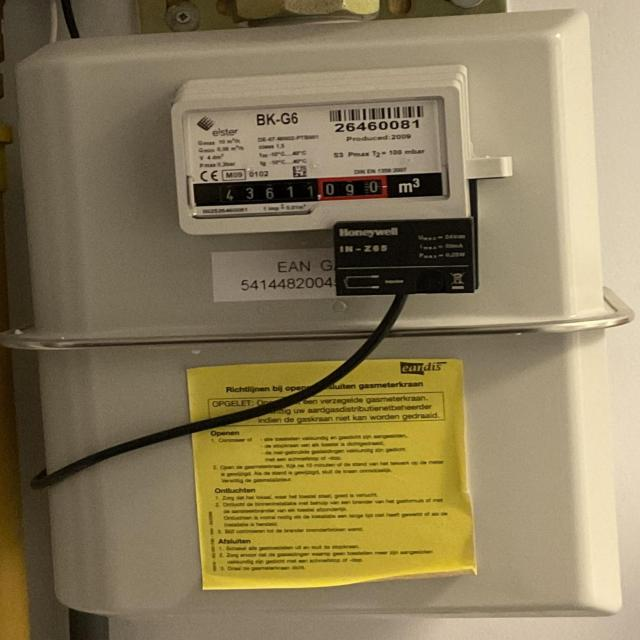gaz_meter: (186, 96, 453, 217)
indication: (194, 173, 396, 208)
